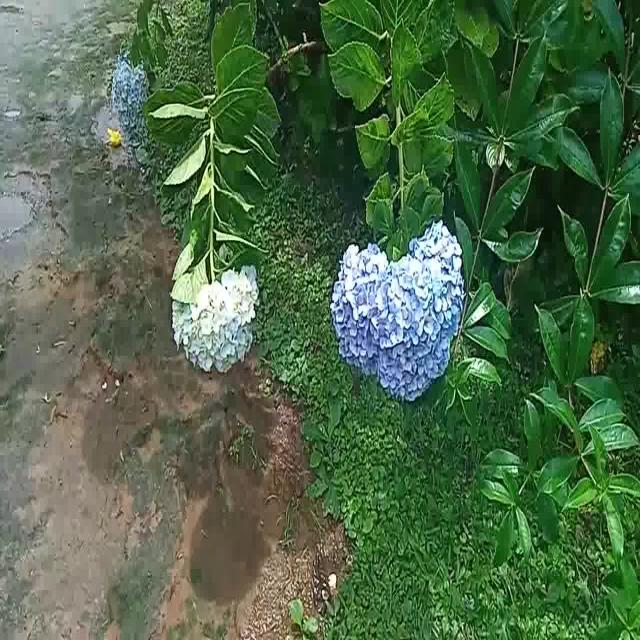Flower: (330, 220, 466, 402), (172, 255, 255, 378), (112, 59, 148, 121)
